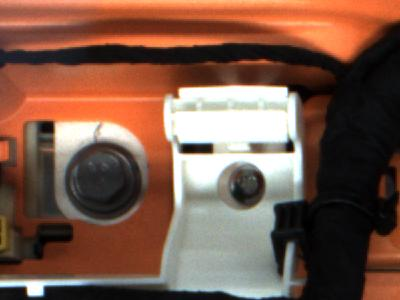nut_b: (56, 144, 144, 212)
